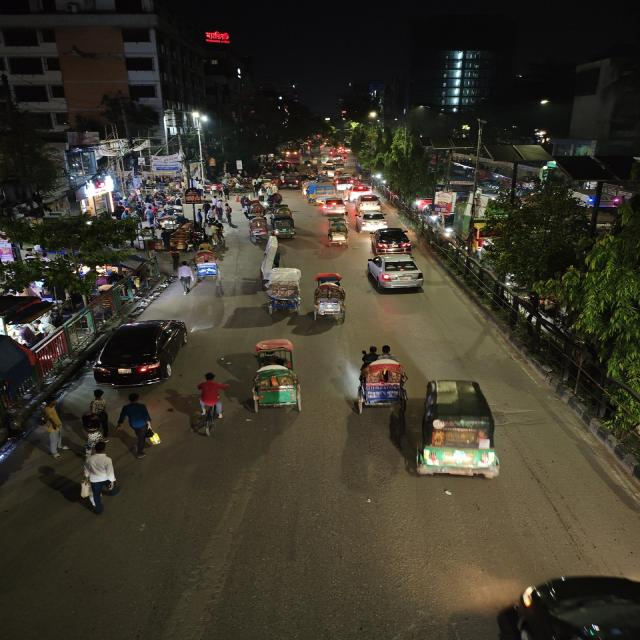bicycle: (189, 371, 231, 434)
car: (90, 316, 194, 390), (364, 252, 427, 294), (368, 226, 415, 255), (356, 210, 391, 232), (318, 196, 349, 216), (354, 194, 386, 213), (347, 183, 374, 197), (284, 174, 305, 189), (333, 175, 355, 189)
cng: (414, 374, 509, 486), (270, 213, 298, 239)
pedestrian: (75, 443, 122, 516), (118, 392, 160, 460), (34, 395, 72, 461), (77, 409, 111, 445), (175, 261, 196, 296), (167, 240, 184, 265), (210, 224, 227, 248), (223, 202, 234, 224)
rickshaw: (242, 337, 306, 417), (349, 342, 413, 416), (257, 264, 304, 320), (312, 280, 348, 324), (191, 248, 226, 285), (325, 219, 350, 249), (246, 217, 270, 246)
truck: (306, 182, 337, 202)
